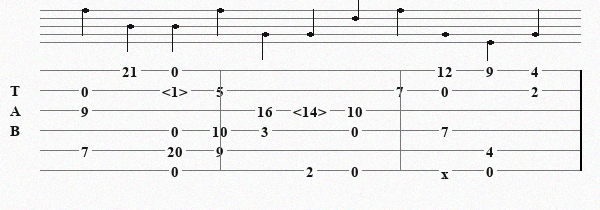0: (81, 83, 93, 97), (171, 63, 183, 77), (171, 123, 183, 137), (171, 163, 183, 177), (351, 163, 363, 177), (351, 123, 363, 137), (441, 83, 453, 97), (486, 163, 498, 177)
10: (212, 123, 232, 137), (347, 103, 367, 117)
12: (437, 63, 457, 77)
16: (257, 103, 277, 117)
2: (306, 163, 318, 177), (531, 83, 543, 97)
20: (167, 143, 187, 157)
21: (122, 63, 142, 77)
3: (261, 123, 273, 137)
4: (486, 143, 498, 157), (531, 63, 543, 77)
5: (216, 83, 228, 97)
7: (81, 143, 93, 157), (396, 83, 408, 97), (441, 123, 453, 137)
9: (81, 103, 93, 117), (216, 143, 228, 157), (486, 63, 498, 77)
harmonic: (293, 103, 331, 117), (162, 83, 192, 97)
x: (441, 165, 453, 176)
